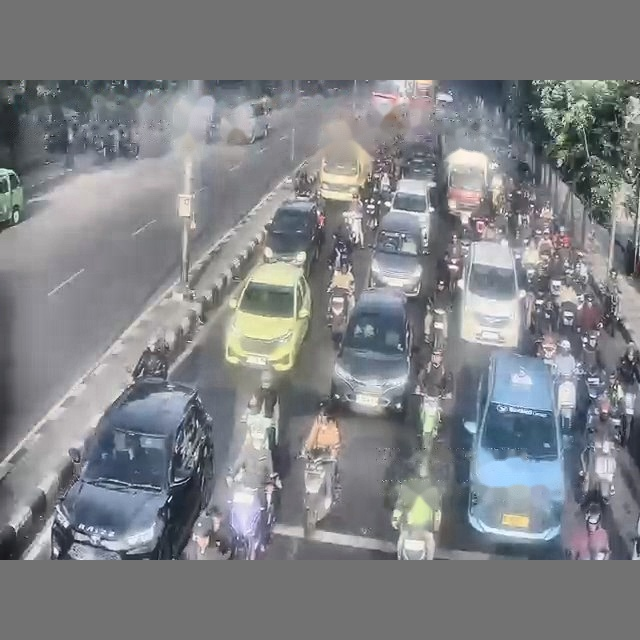Mobil: (51, 378, 214, 559), (464, 350, 566, 543), (331, 288, 414, 414), (225, 262, 311, 372), (458, 241, 525, 348), (369, 212, 427, 297), (263, 199, 320, 276), (390, 179, 434, 241), (227, 101, 269, 143), (0, 168, 24, 224), (402, 157, 437, 181)
Motor: (228, 478, 274, 559), (304, 450, 337, 536), (580, 441, 616, 503), (557, 366, 582, 444), (416, 387, 441, 453), (327, 288, 349, 345), (397, 525, 426, 560), (581, 330, 599, 370), (364, 196, 379, 229)
